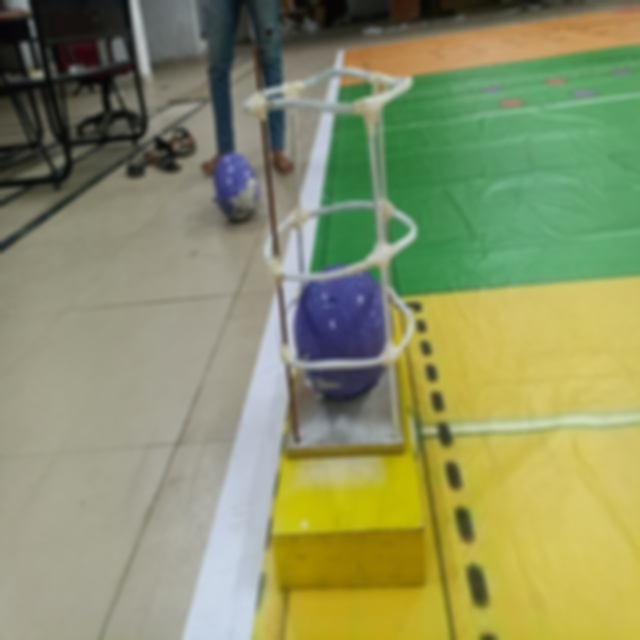purple_ball: (301, 268, 388, 394), (224, 166, 258, 208), (214, 152, 246, 183)
silo: (249, 63, 411, 468)
